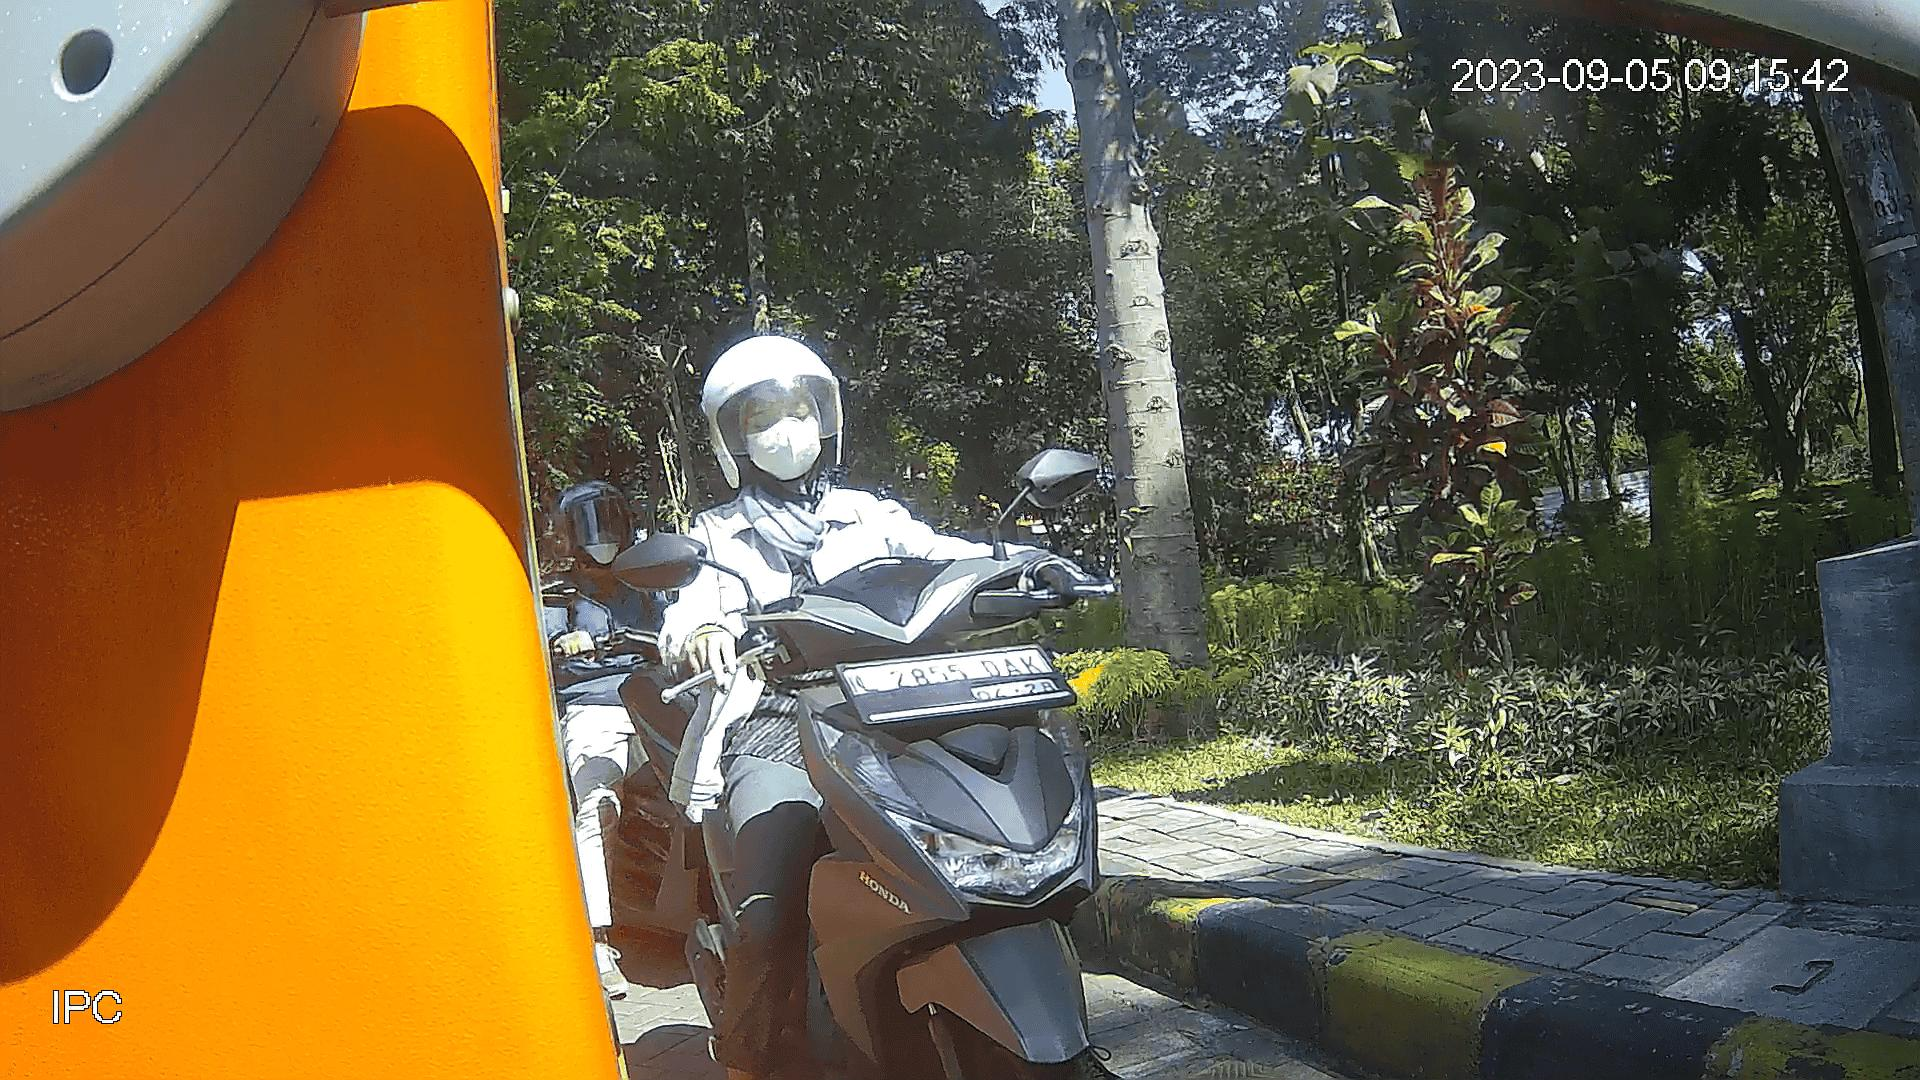plat: (835, 640, 1080, 728)
